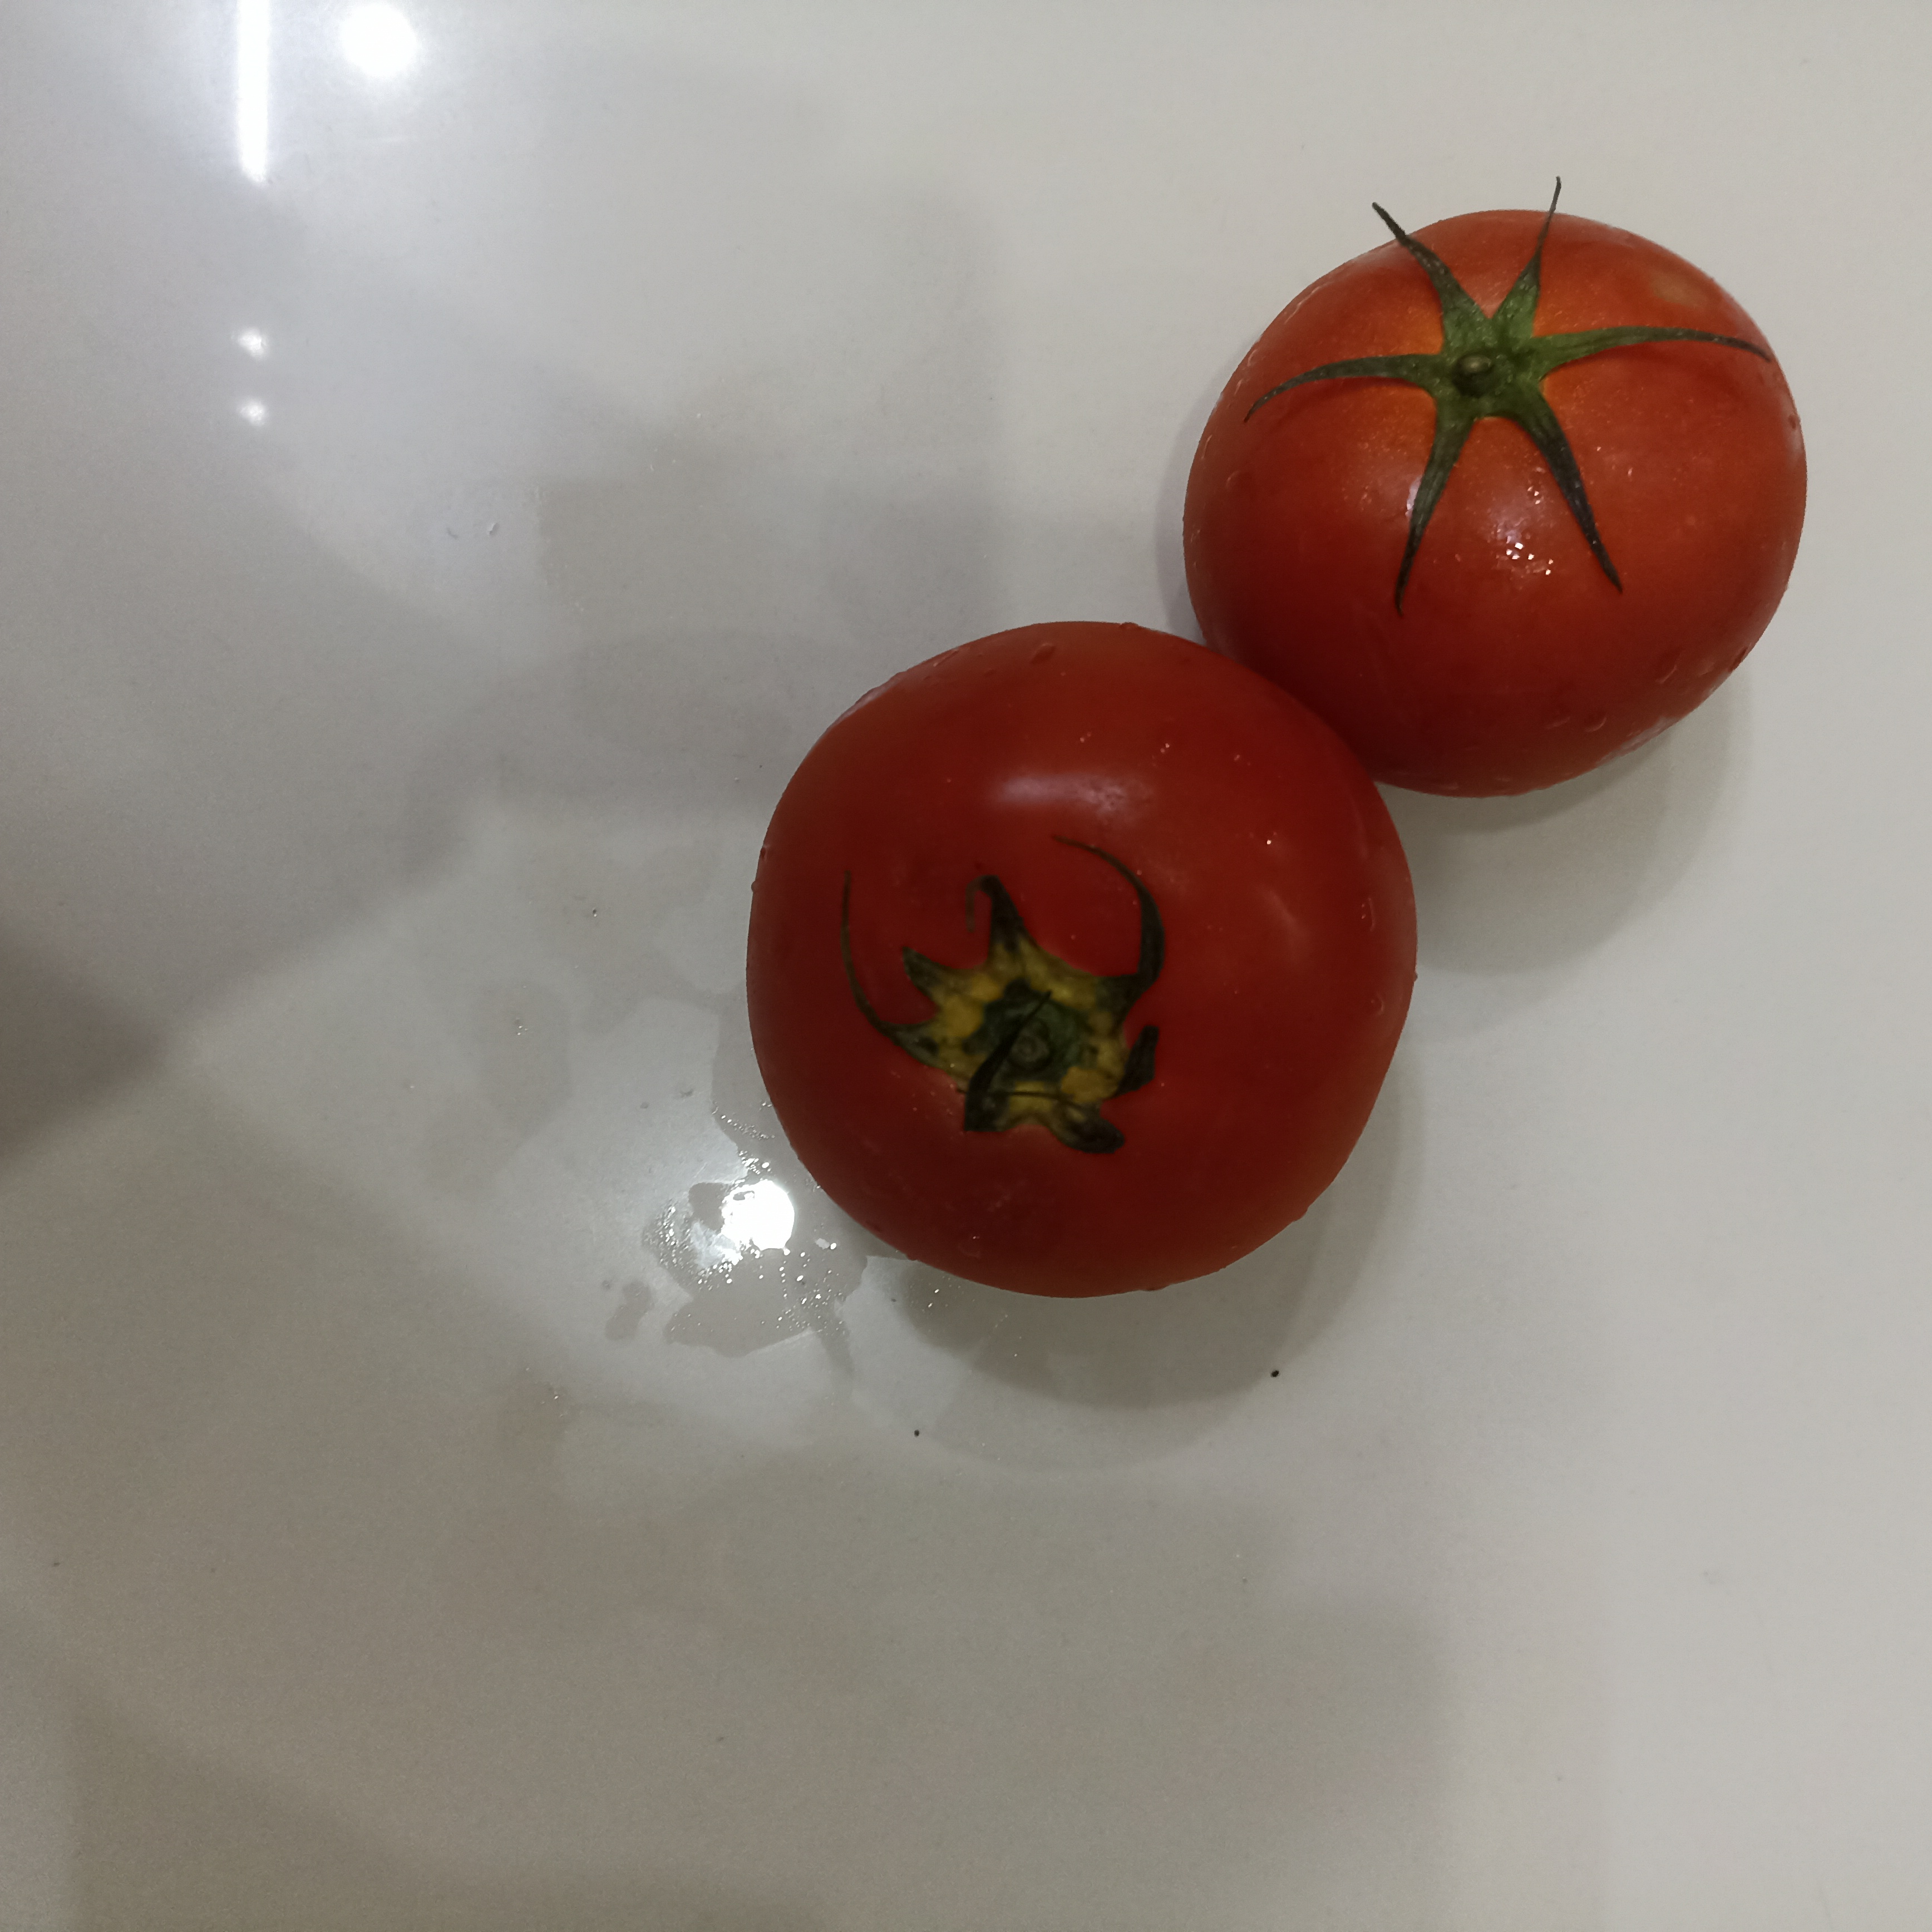Ca chua: (745, 619, 1419, 1299), (1180, 207, 1808, 787)
